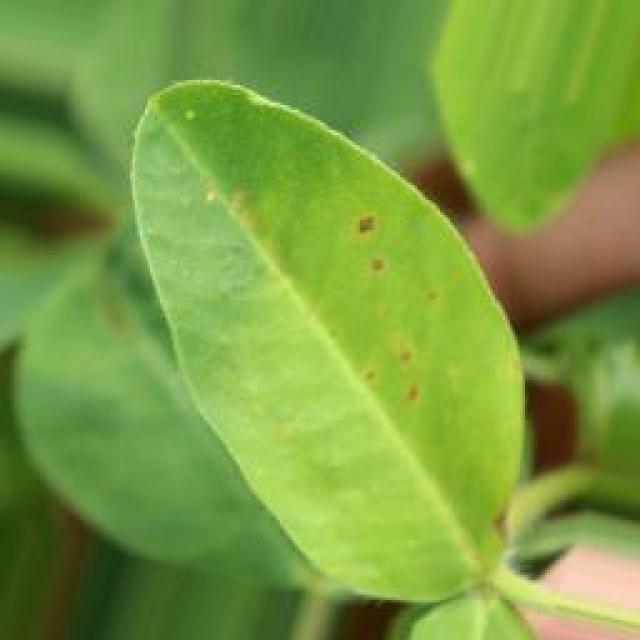Sigatoka: (345, 313, 452, 426), (316, 194, 400, 303), (192, 158, 272, 234), (481, 480, 522, 550)
